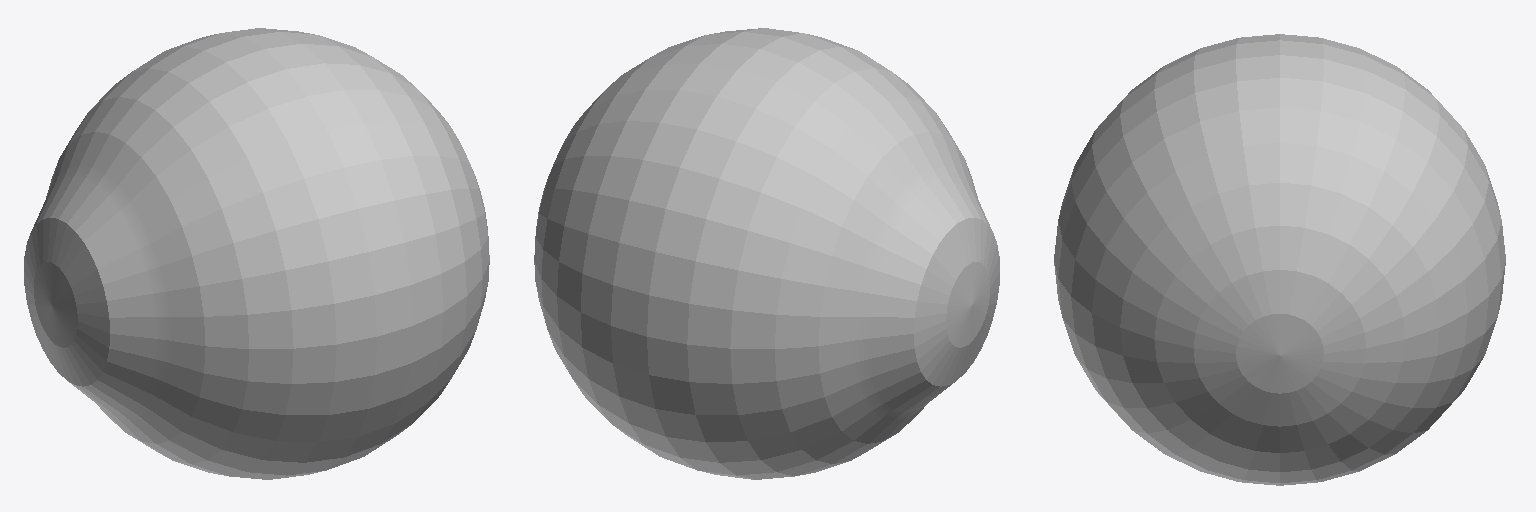
Rendered from sphereEye.obj.
3 renders of one model, left to right at view 1: azimuth 30°, elevation 25°; view 2: azimuth 150°, elevation 25°; view 3: azimuth 270°, elevation 25°, orthographic.
Parts seen in each view (by area): view 1: innerEye; view 2: innerEye; view 3: innerEye.
Boxes of the visible parts, x1,y1,x2,y2 form: innerEye: [24, 28, 489, 479]; innerEye: [534, 28, 999, 479]; innerEye: [1054, 34, 1505, 485].
Bounding box in the file's own units: 8.79 × 8.44 × 8.44.